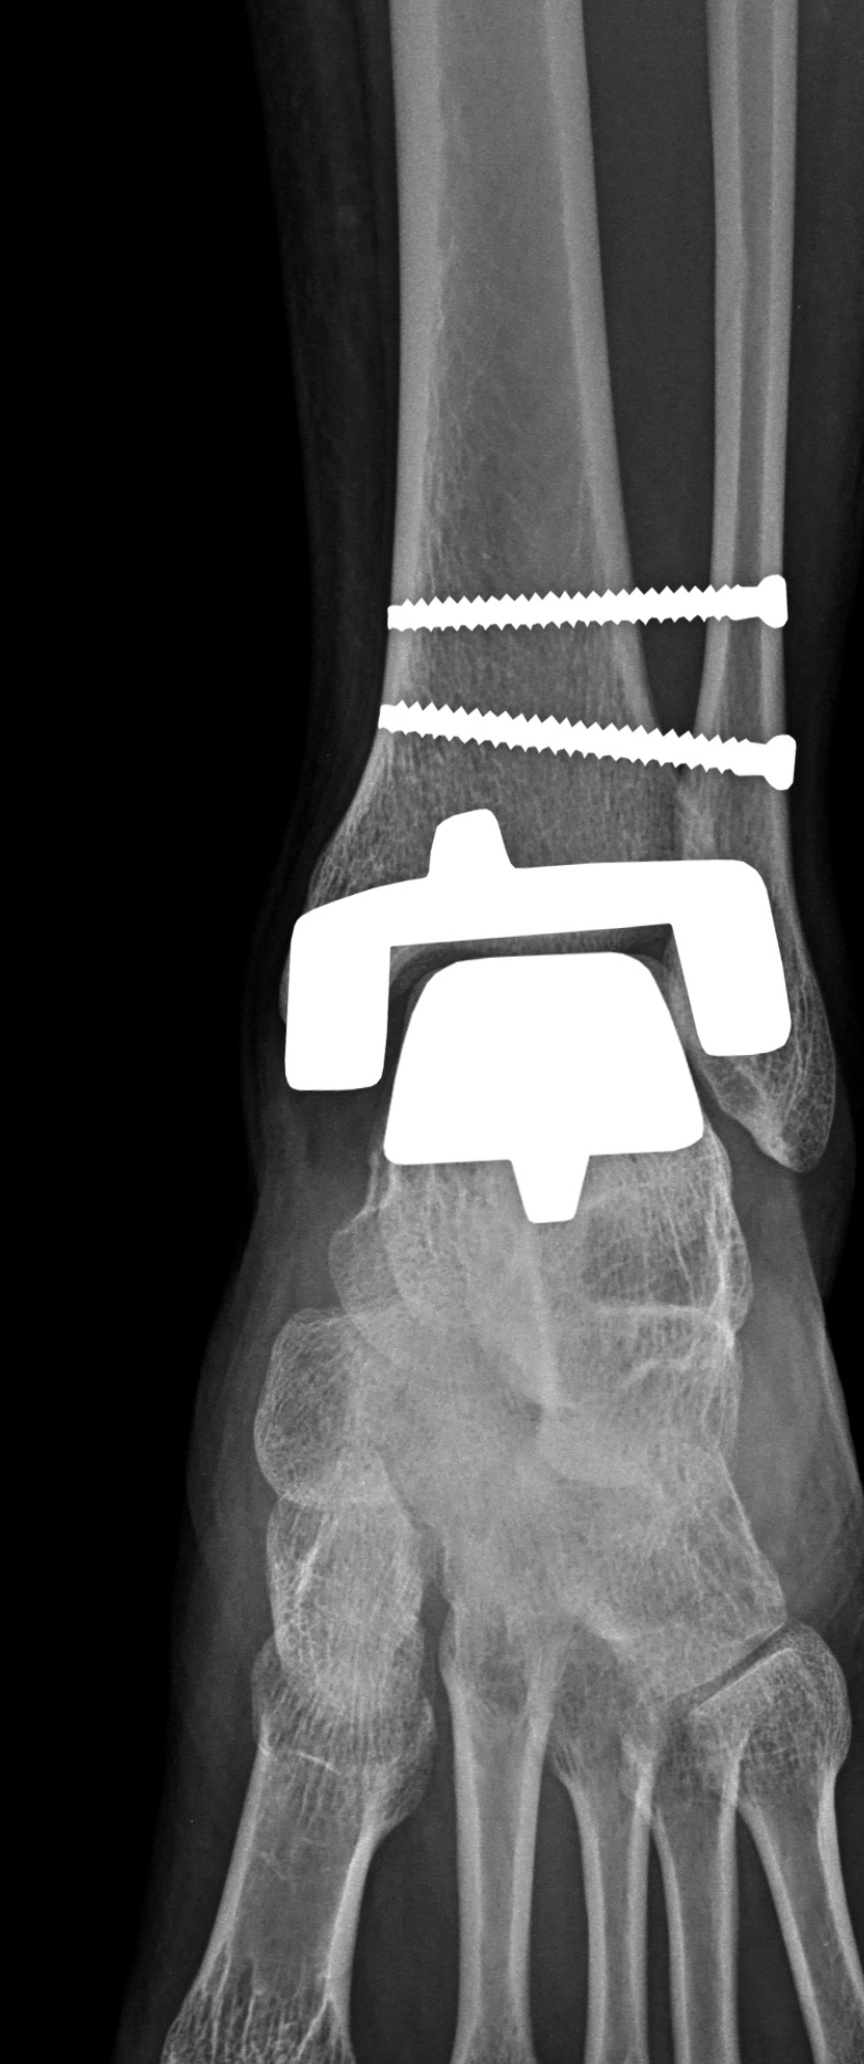Agility-Depuy: (275, 567, 811, 1231)
